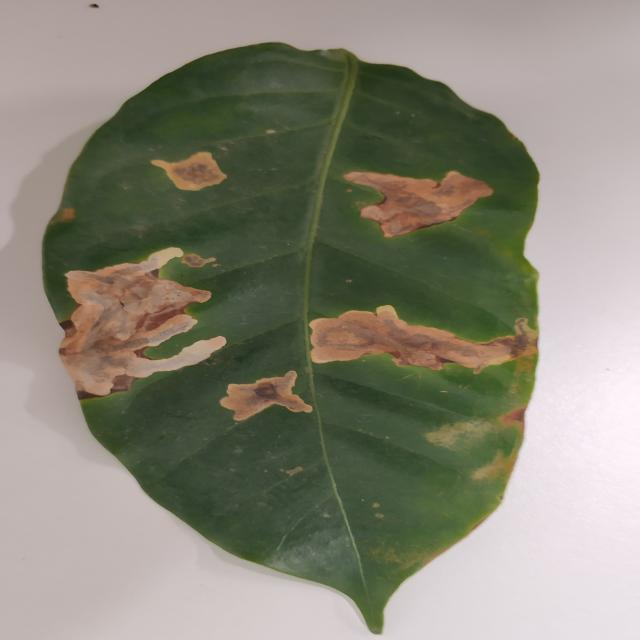Plaga-Minador: (39, 43, 541, 636)
